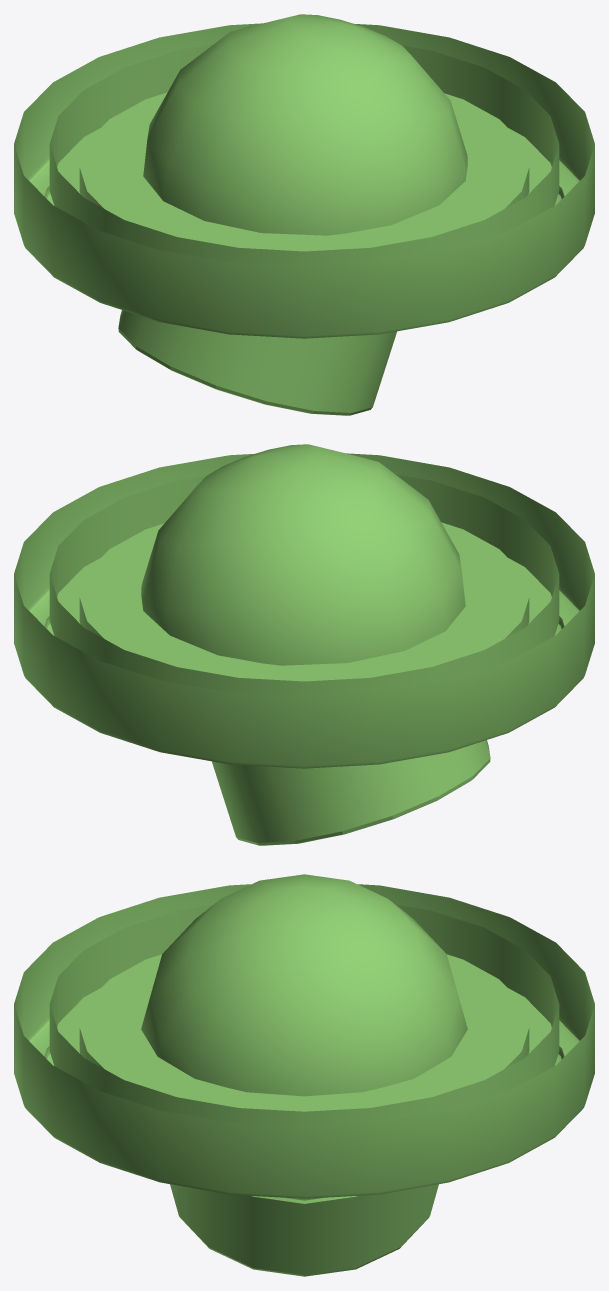
File: Lights.fbx
3 views of the same model, one above another, from view 1: azimuth 30°, elevation 25°; view 2: azimuth 150°, elevation 25°; view 3: azimuth 270°, elevation 25° (orthographic).
Parts seen in each view (by area): view 1: SM_Ball_Lamp, SM_Flat_Lamp; view 2: SM_Ball_Lamp, SM_Flat_Lamp; view 3: SM_Ball_Lamp, SM_Flat_Lamp.
Boxes of the visible parts, left/top/right/bottom form: SM_Ball_Lamp: left=49, top=14, right=559, bottom=415; SM_Flat_Lamp: left=14, top=23, right=594, bottom=338; SM_Ball_Lamp: left=49, top=444, right=559, bottom=845; SM_Flat_Lamp: left=14, top=453, right=594, bottom=768; SM_Ball_Lamp: left=49, top=874, right=559, bottom=1276; SM_Flat_Lamp: left=14, top=884, right=594, bottom=1198.
Bounding box in the file's own units: 29 × 19.95 × 29.
